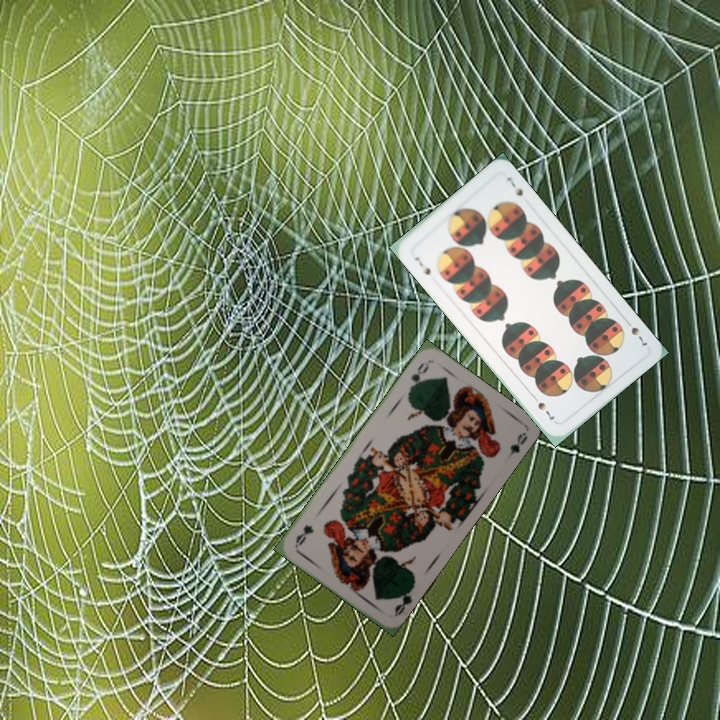GO: (405, 357, 432, 395), (390, 582, 417, 618)
S7: (627, 323, 650, 349), (410, 253, 433, 278)
